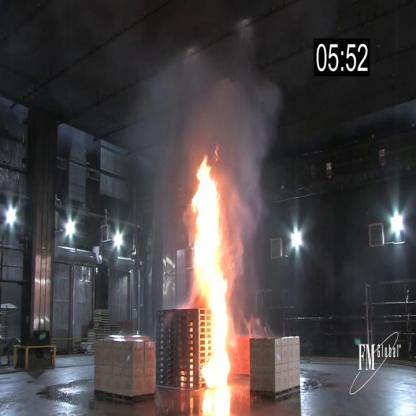fire: (190, 151, 234, 397)
